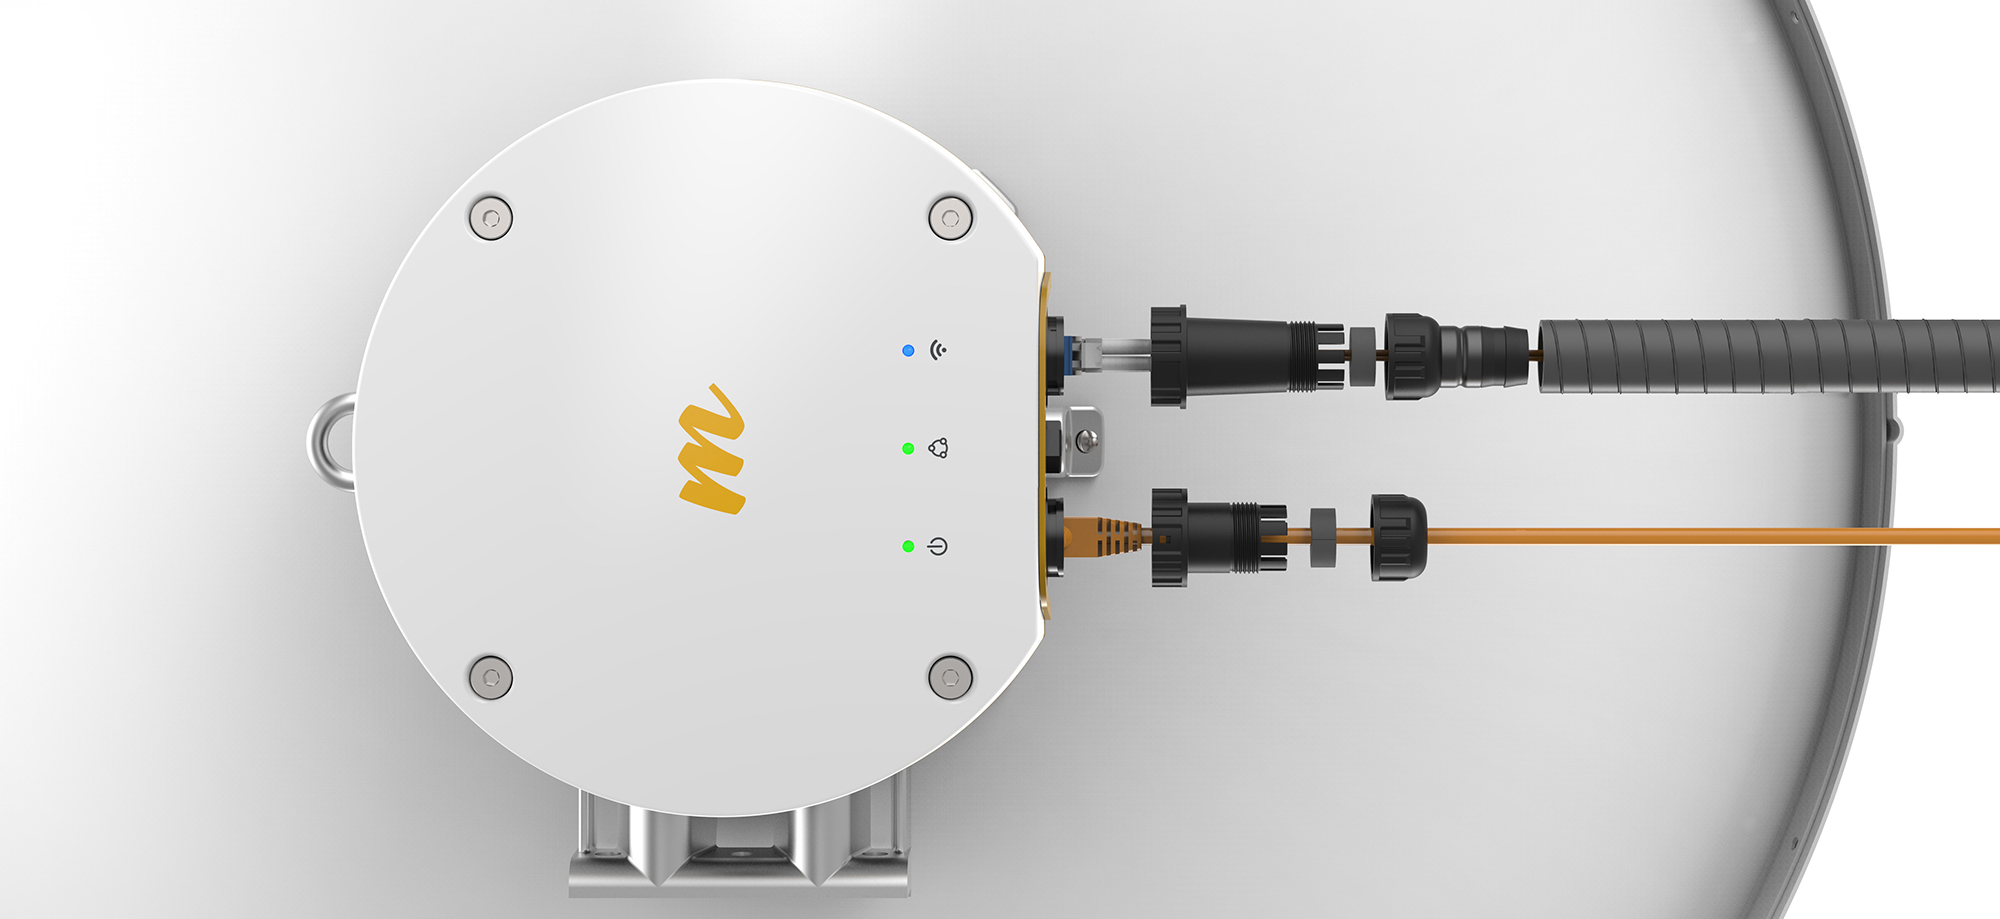ba: (231, 65, 1145, 848)
